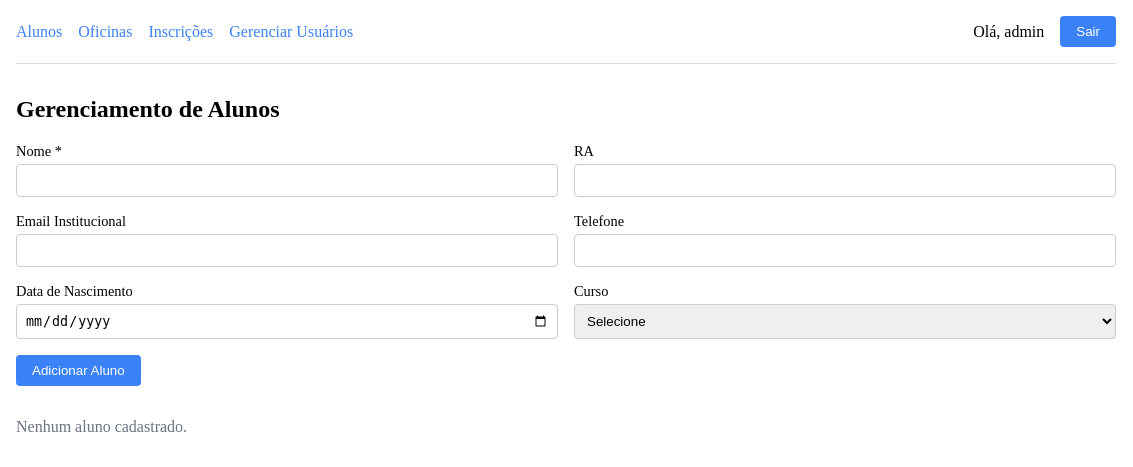
Scenario: AlunosView › botão submit está desabilitado quando telefone tem entre 1 e 9 caracteres
Type "12345" into the field named "Mínimo 10 dígitos (ex: (41) 99999-9999)" at [845, 250], box [574,234,1116,267]
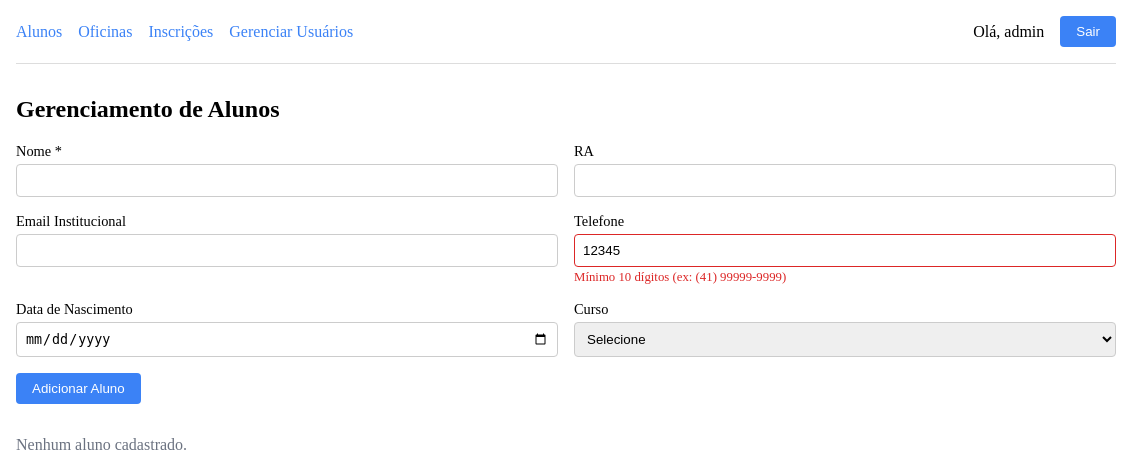
expect the submit button is disabled: met, box [16,373,141,404]
